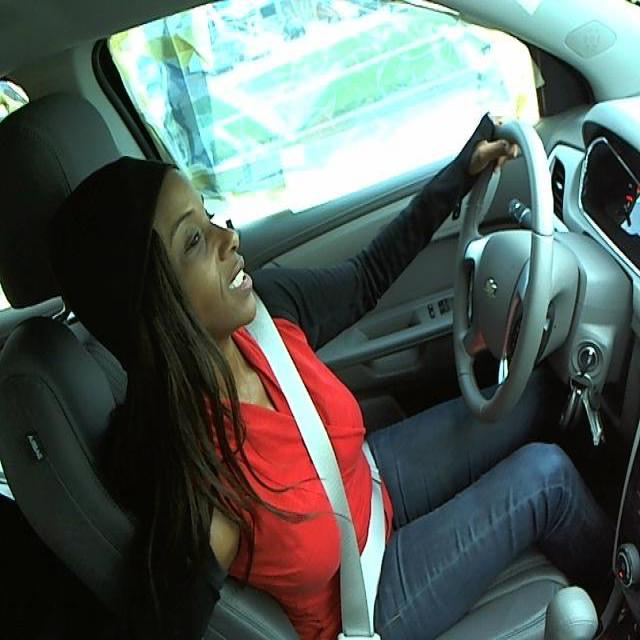seatbelt: (300, 436, 415, 639)
